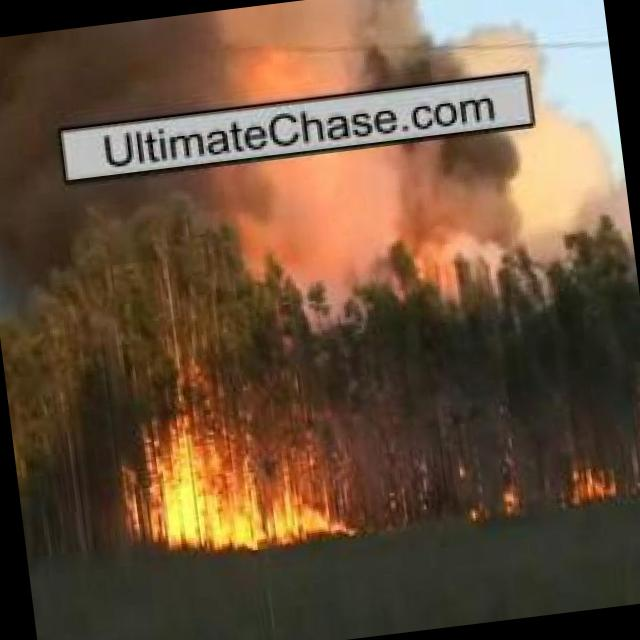Fire: (132, 420, 340, 563), (464, 475, 521, 523), (568, 468, 614, 499)
Smoke: (244, 118, 636, 320), (0, 0, 463, 149)
